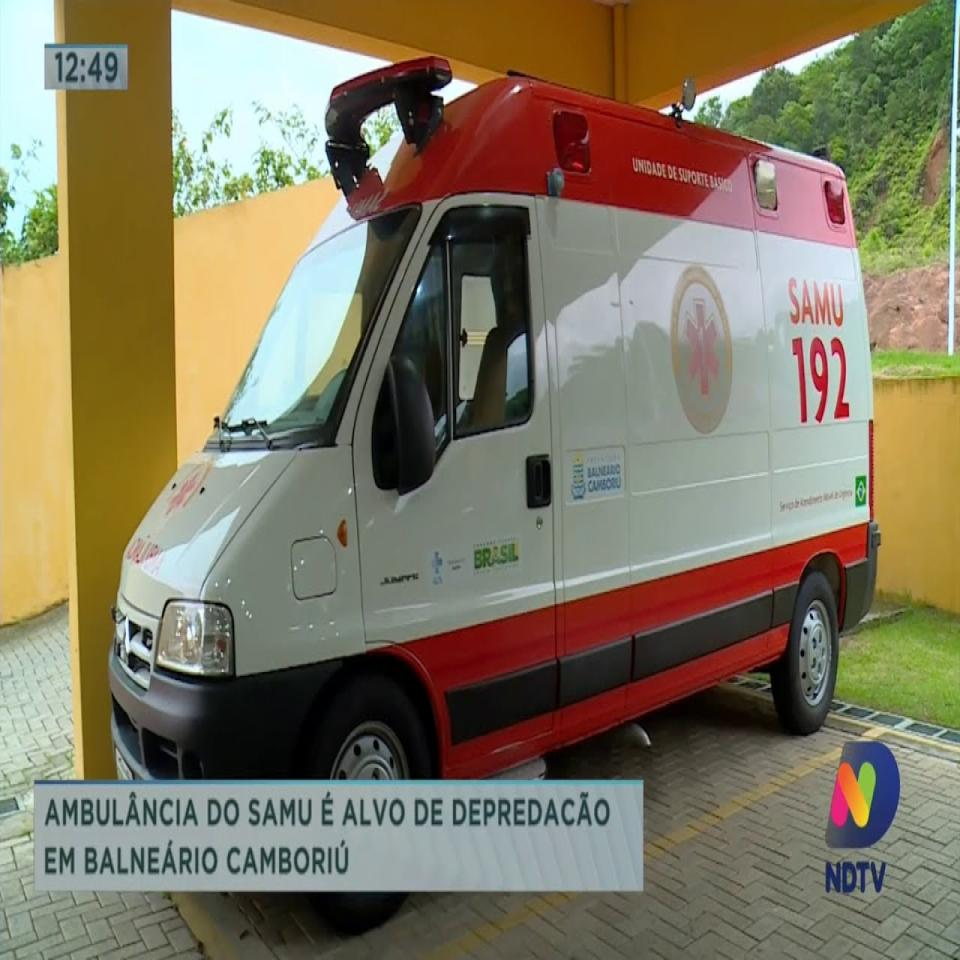bombeiro: (108, 50, 883, 936)
